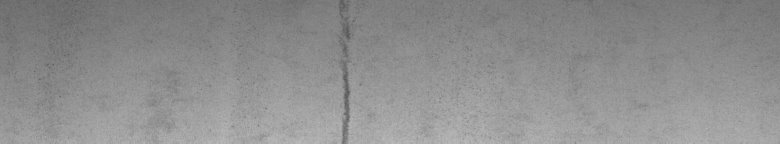hd: (331, 4, 360, 136)
